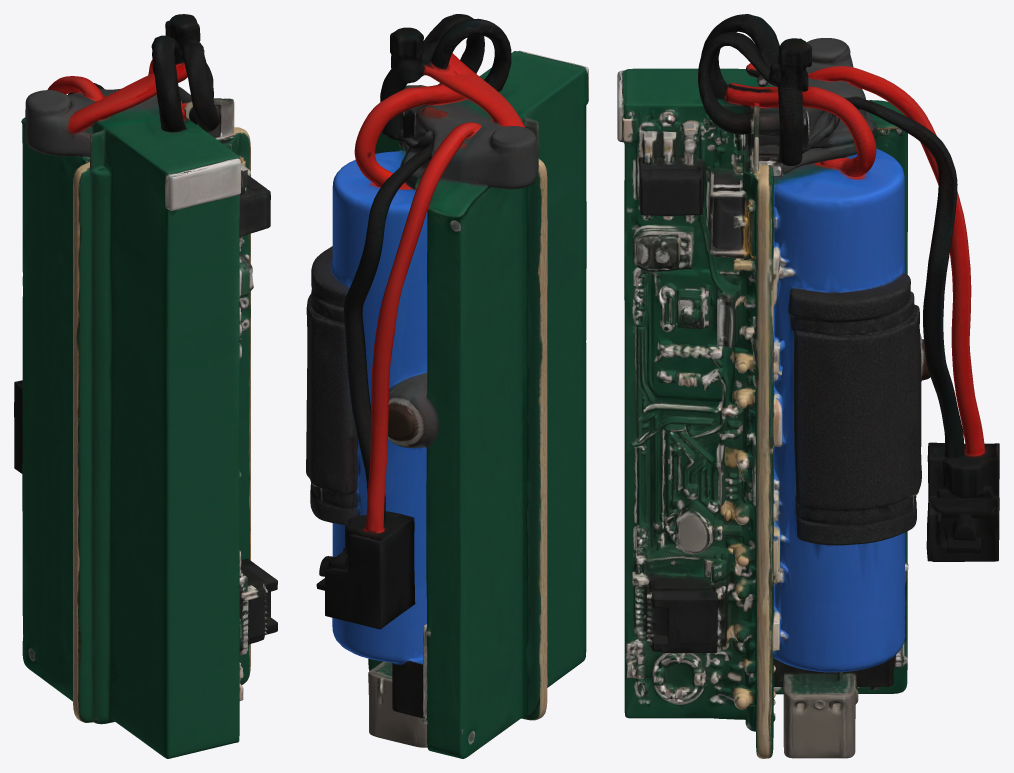
Rendered from pcb_batteri.glb.
3 views of the same model, side by side, from view 1: azimuth 30°, elevation 25°; view 2: azimuth 150°, elevation 25°; view 3: azimuth 270°, elevation 25° (orthographic). The views are drawn at different scales.
Visible parts, largest first — view 1: tripo_node_db48c859-634e-408f-a3ee-4c07c374e882; view 2: tripo_node_db48c859-634e-408f-a3ee-4c07c374e882; view 3: tripo_node_db48c859-634e-408f-a3ee-4c07c374e882.
Part boxes in pixels (<box>): tripo_node_db48c859-634e-408f-a3ee-4c07c374e882: <box>14,14,277,758</box>; tripo_node_db48c859-634e-408f-a3ee-4c07c374e882: <box>306,14,588,758</box>; tripo_node_db48c859-634e-408f-a3ee-4c07c374e882: <box>617,14,999,758</box>.
Size of the model in its own units: 0.3089 by 0.9791 by 0.4748.
1 material, 1 textured.
